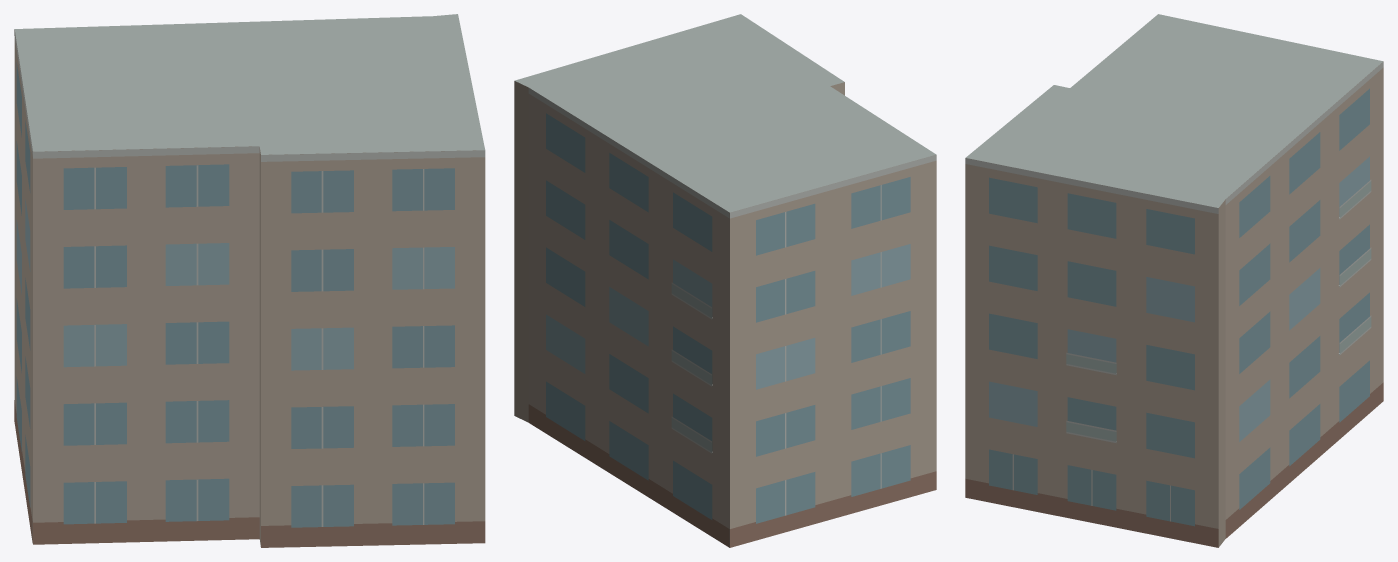
Rendered from survey-upis-32885199.glb.
The picture shows the model from 3 angles, left to right: view 1: azimuth 30°, elevation 25°; view 2: azimuth 150°, elevation 25°; view 3: azimuth 270°, elevation 25°; orthographic projection. The views are drawn at different scales.
Parts seen in each view (by area): view 1: survey-upis-32885199.tmp; view 2: survey-upis-32885199.tmp; view 3: survey-upis-32885199.tmp.
Boxes of the visible parts, left/top/right/bottom form: survey-upis-32885199.tmp: left=14, top=14, right=485, bottom=547; survey-upis-32885199.tmp: left=514, top=14, right=936, bottom=547; survey-upis-32885199.tmp: left=965, top=14, right=1383, bottom=547.
Size of the model in its own units: 16.79 by 13.7 by 15.29.
